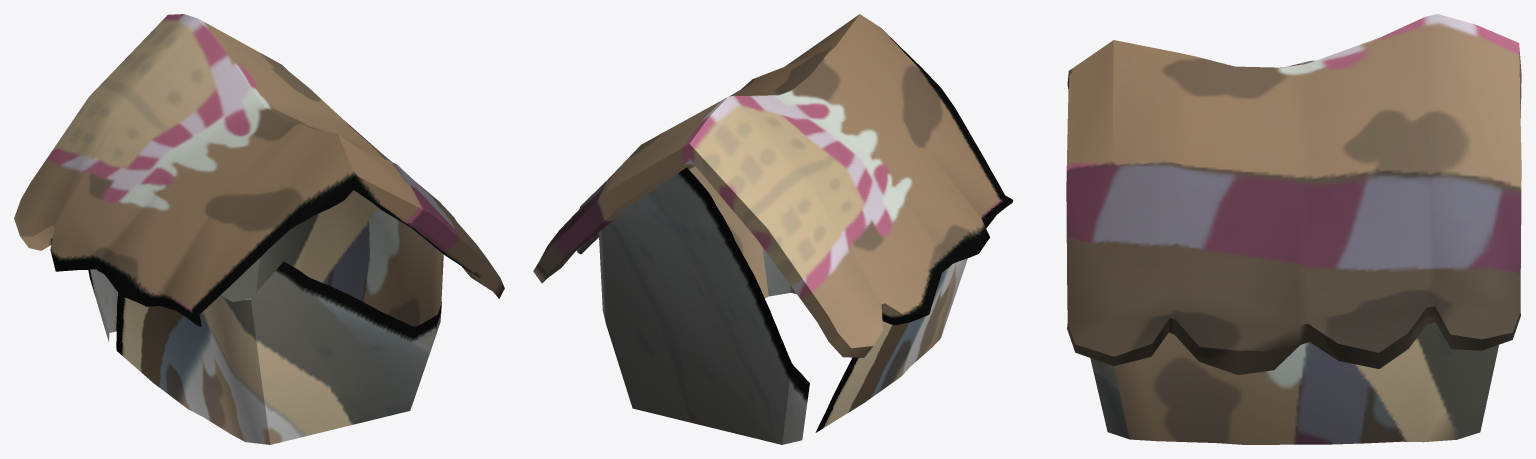
The model's file is candy house.fbx.
3 views of the same model, side by side, from view 1: azimuth 30°, elevation 25°; view 2: azimuth 150°, elevation 25°; view 3: azimuth 270°, elevation 25° (orthographic). The views are drawn at different scales.
Visible parts, largest first — view 1: candyHouse; view 2: candyHouse; view 3: candyHouse.
Part boxes in pixels (box(x1,y1,x2,y2)): candyHouse: box(14, 14, 504, 444); candyHouse: box(533, 14, 1013, 444); candyHouse: box(1066, 14, 1521, 444).
Bounding box in the file's own units: 2.36 × 2.01 × 2.21.
